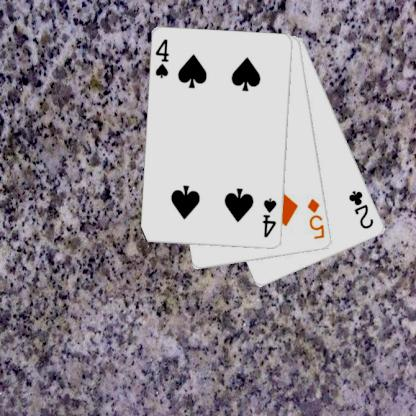2C: (346, 188, 376, 230)
4S: (260, 196, 278, 239), (152, 37, 170, 80)
5D: (305, 196, 326, 240)
